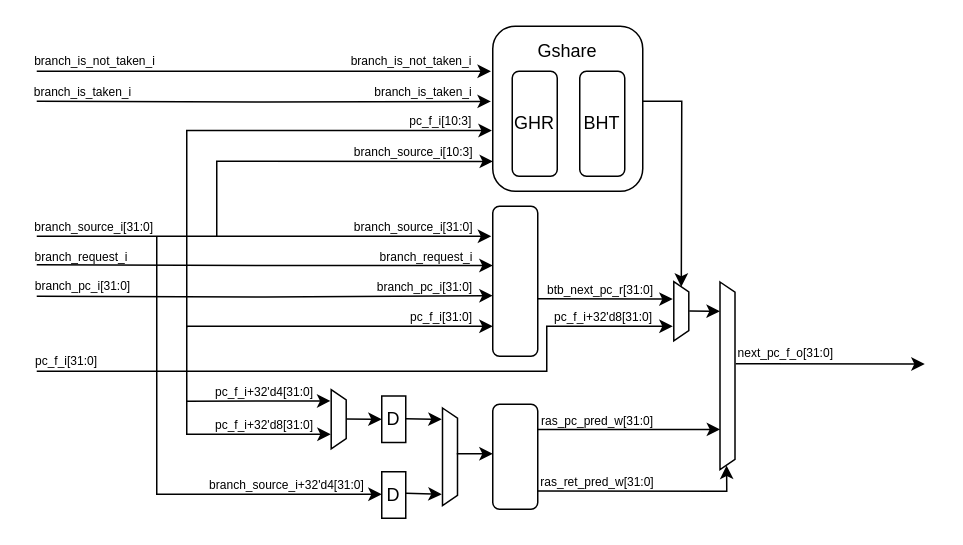
The diagram is 963 pixels wide and 545 high, and some of its shapes have lost their labels. Here are the shapes that lost their labels. From the top down, the box of each, then its label:
(491, 205, 538, 356): BTB
(491, 403, 538, 509): RAS
